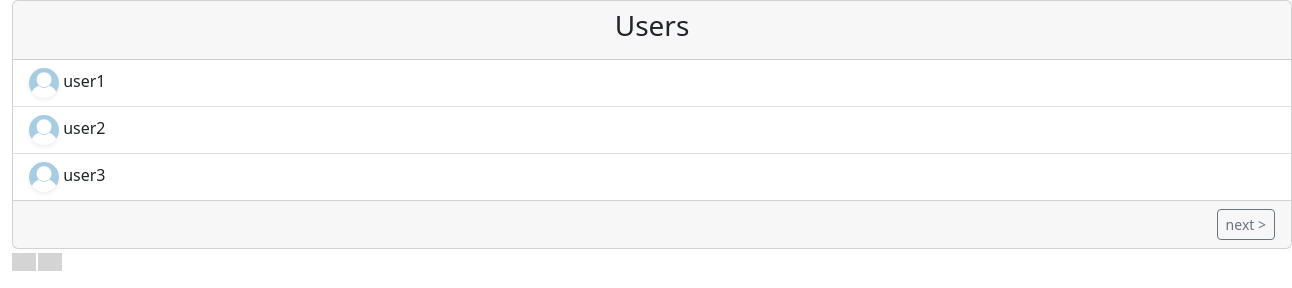
Test: User List › Interations › hides next page link at last page
Expected: the text "user1" is shown, [29,68,106,98]
Click the button "next >". click: point(1246, 224)
box: [1217,209,1275,240]
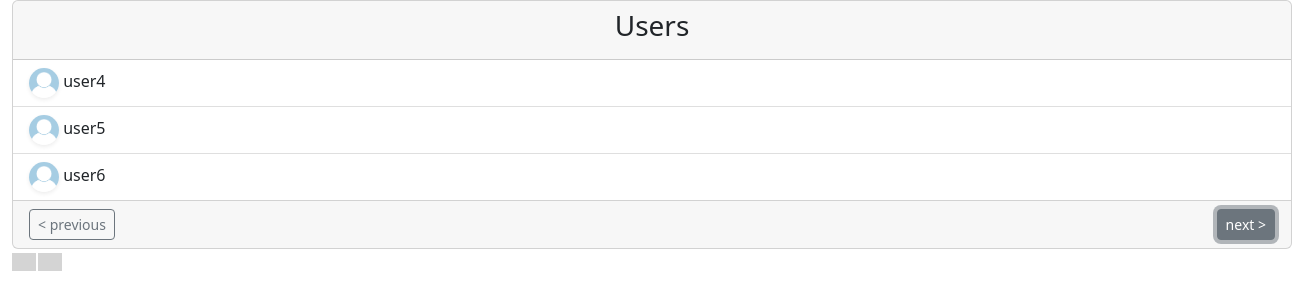
Now the text "user4" is shown, box [29,68,106,98]
Click the button "next >". click: point(1246, 224)
box: [1217,209,1275,240]
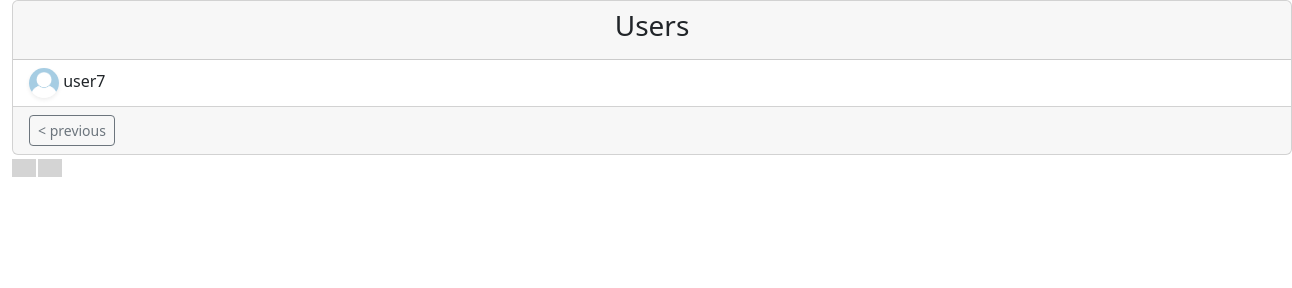
Now the text "user7" is shown, box [29,68,106,98]
Now the button "next >" is gone
